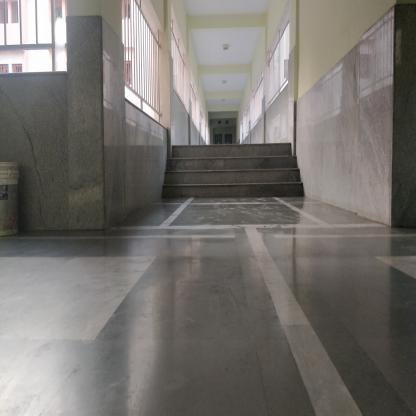stairs: (173, 142, 293, 207)
